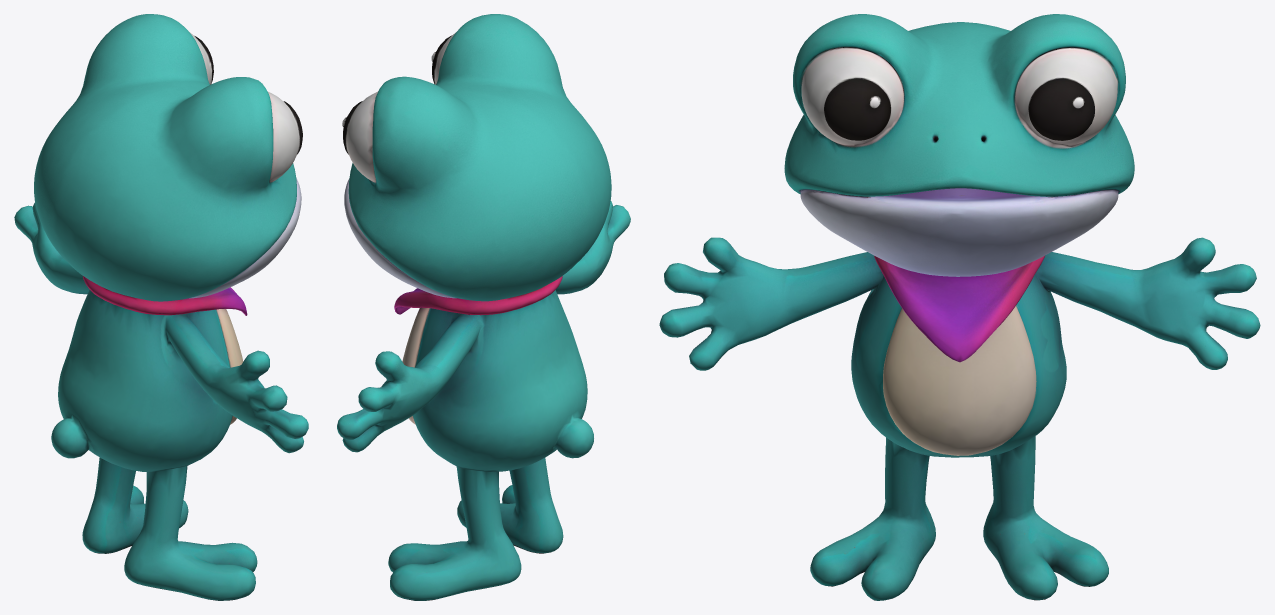
The model's file is bruno.glb.
3 views of the same model, side by side, from view 1: azimuth 30°, elevation 25°; view 2: azimuth 150°, elevation 25°; view 3: azimuth 270°, elevation 25° (orthographic). The views are drawn at different scales.
Visible parts, largest first — view 1: tripo_node_fb74cb62-d629-454f-b962-53520c3fc25a; view 2: tripo_node_fb74cb62-d629-454f-b962-53520c3fc25a; view 3: tripo_node_fb74cb62-d629-454f-b962-53520c3fc25a.
Boxes of the visible parts, box(x1,y1,x2,y2) form: tripo_node_fb74cb62-d629-454f-b962-53520c3fc25a: box(14, 14, 308, 600); tripo_node_fb74cb62-d629-454f-b962-53520c3fc25a: box(337, 14, 630, 600); tripo_node_fb74cb62-d629-454f-b962-53520c3fc25a: box(659, 14, 1260, 600).
Size of the model in its own units: 0.4632 by 0.98 by 0.9339.
1 material, 1 textured.
